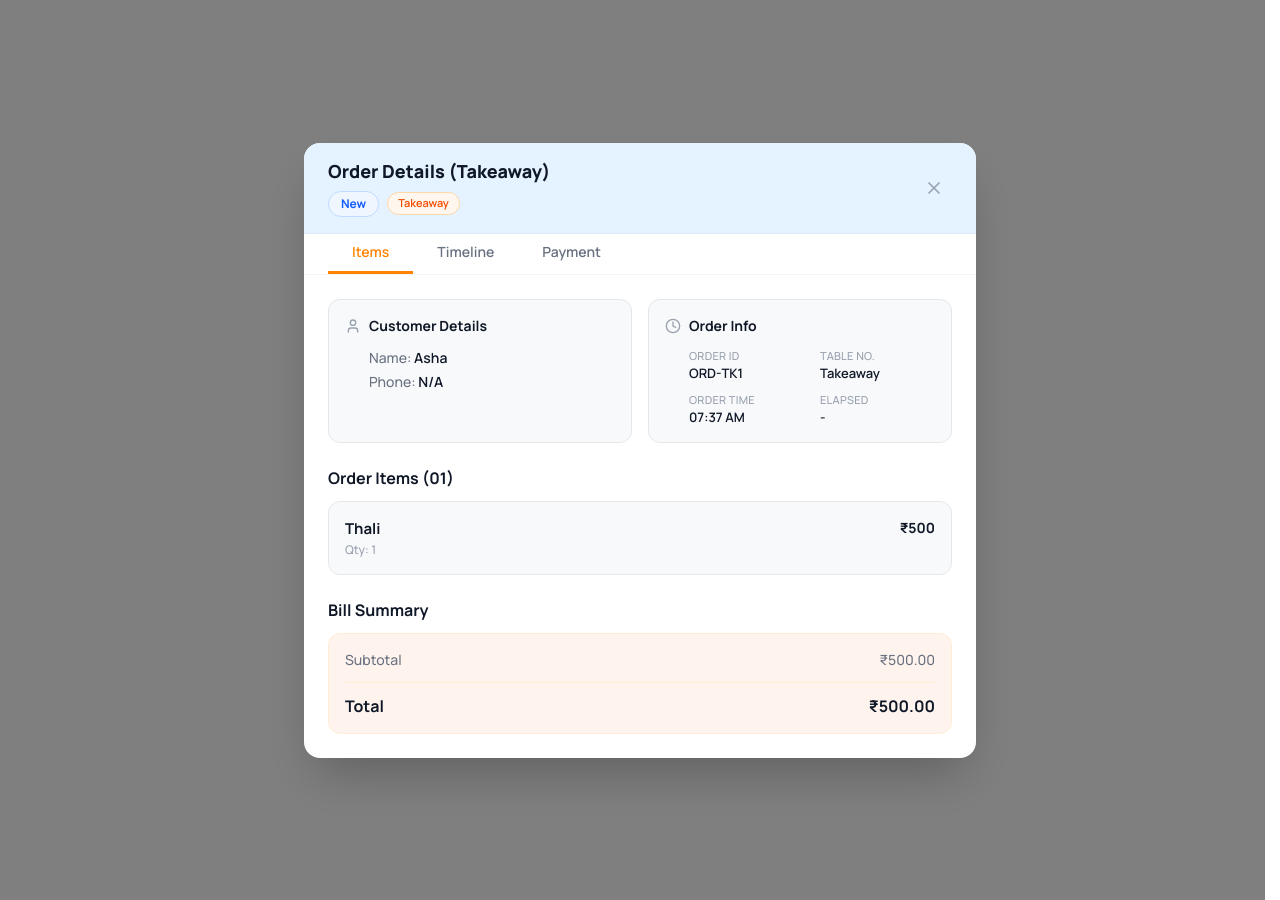
Test case: OrderDetailsModal — split payment › only cash may be over the amount due
Click the button "Payment" at (572, 258), box top-left (518, 242), bottom-right (625, 274)
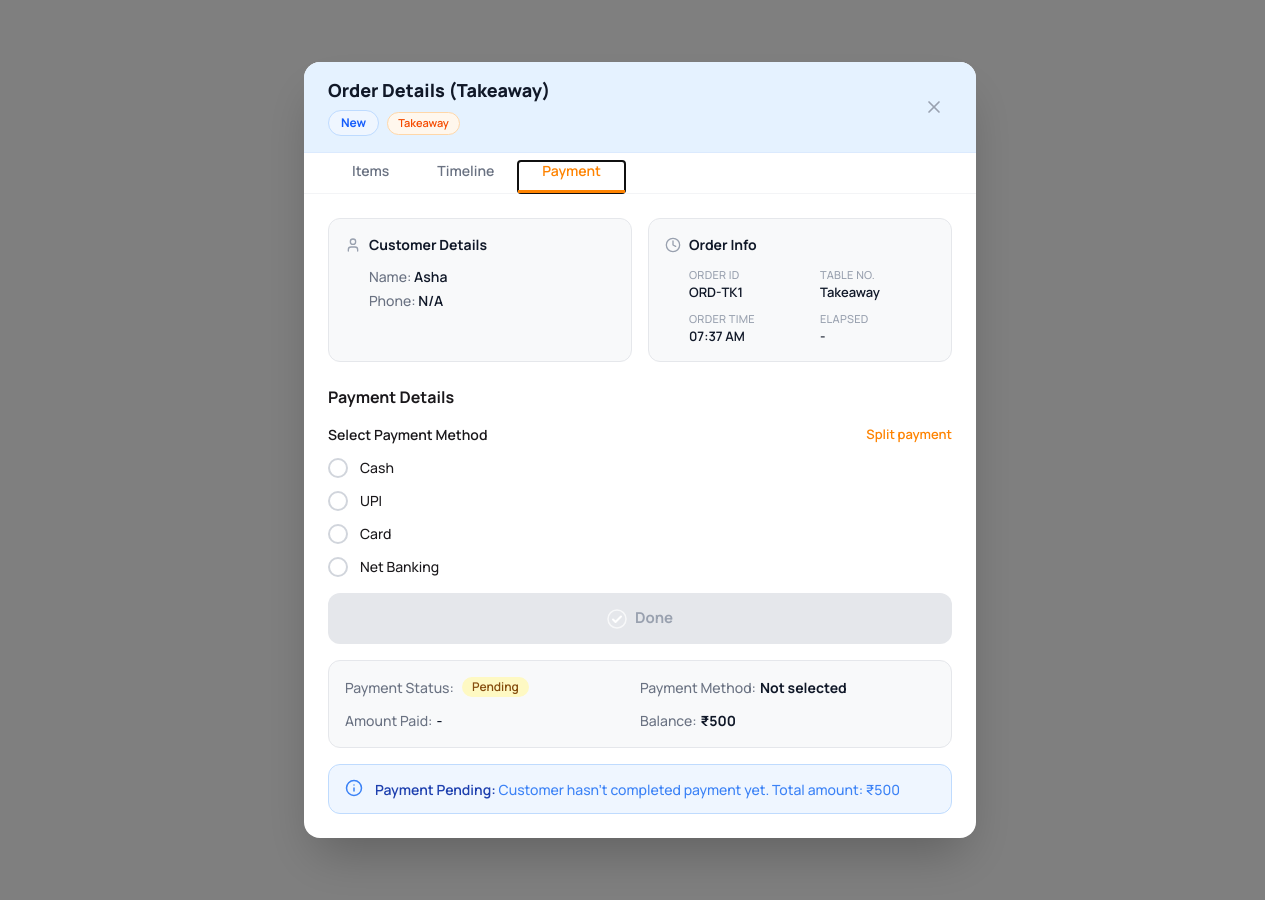
Click the button "Split payment" at (909, 435), box top-left (866, 425), bottom-right (952, 444)
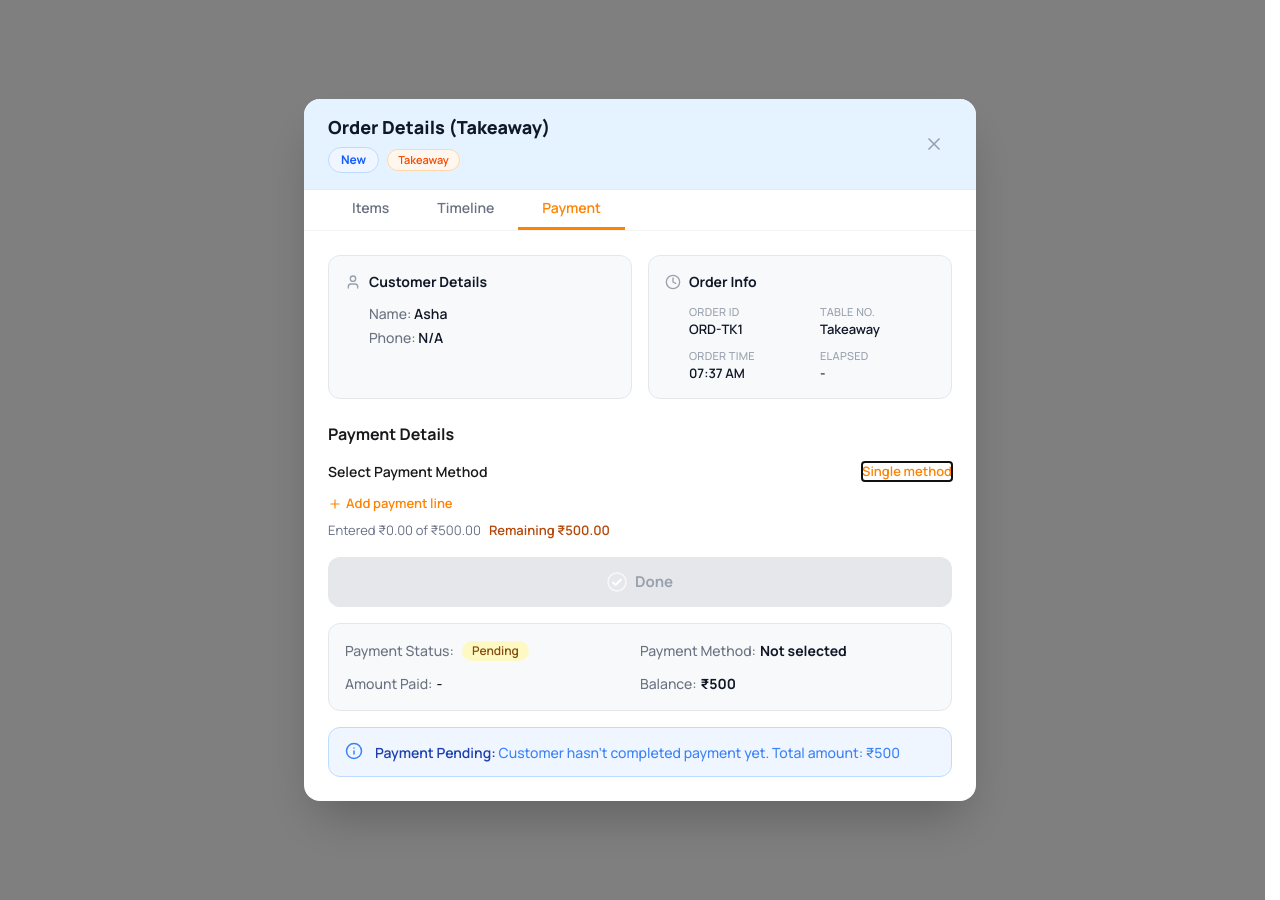
Click the button "Add payment line" at (390, 504), box top-left (328, 494), bottom-right (453, 513)
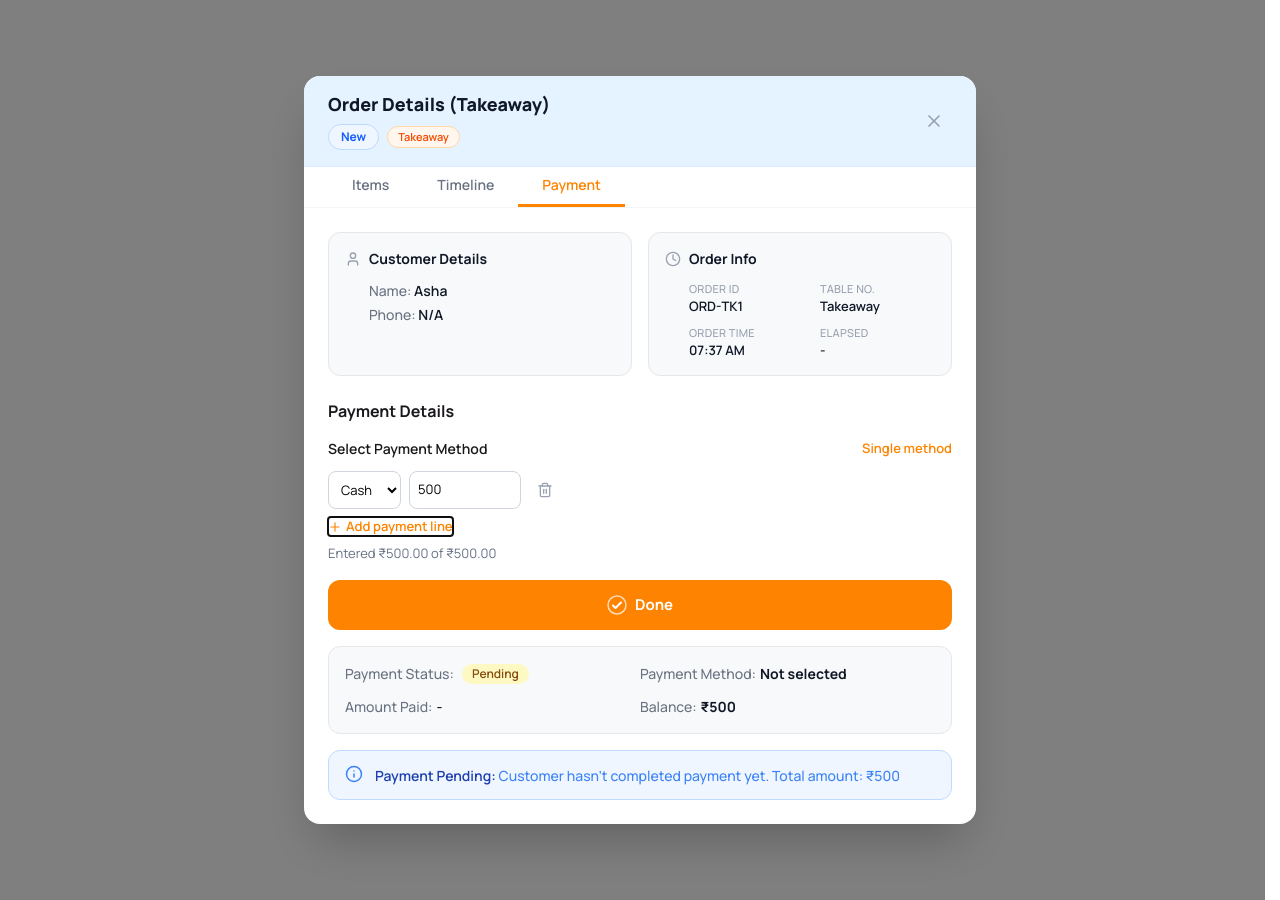
Replace the text in the number field named "Payment amount 1" with "600" at (465, 490), box top-left (409, 471), bottom-right (521, 508)
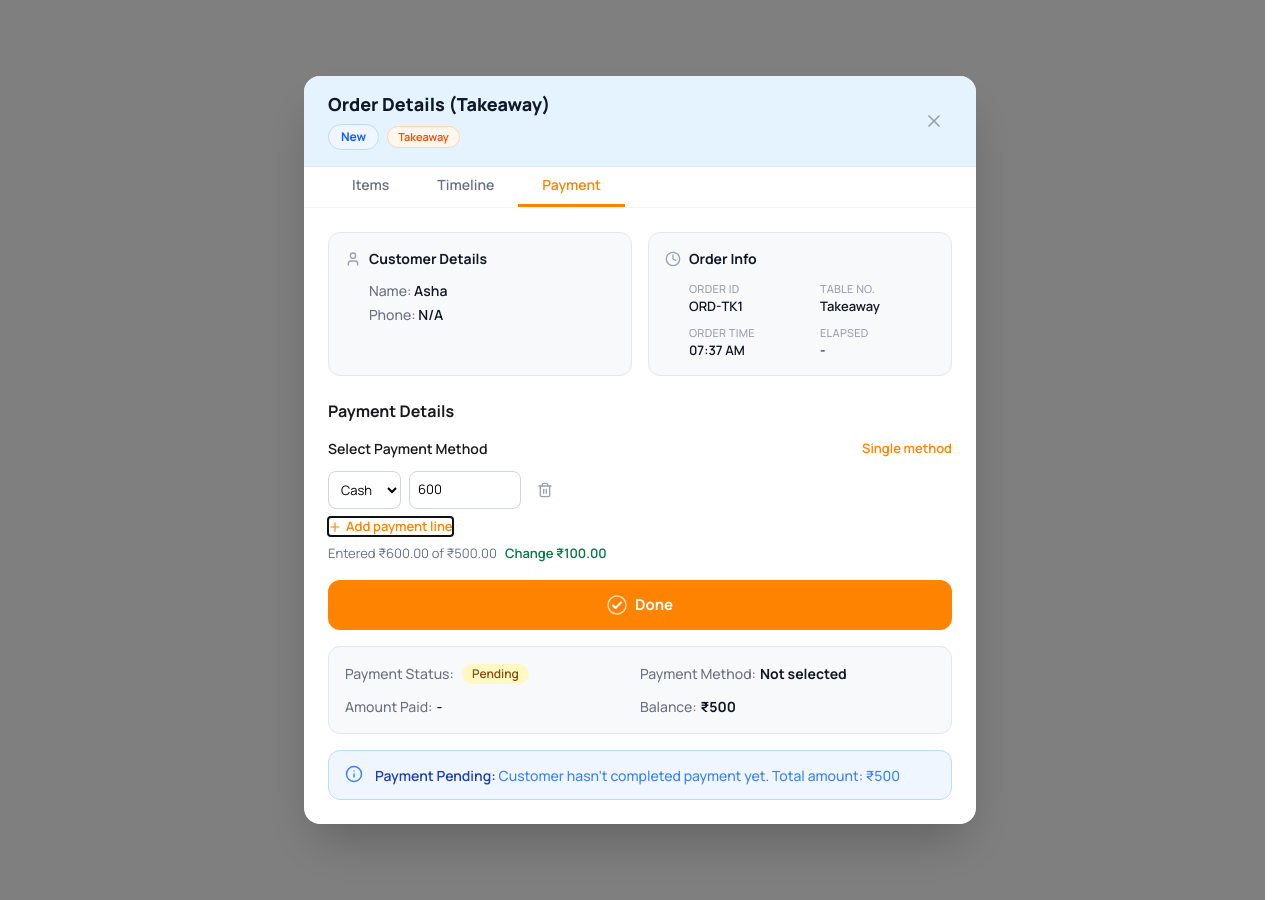
Check: the button "Done" is enabled, box top-left (328, 580), bottom-right (952, 630)
Select "Card" in the dropdown named "Payment method 1" at (364, 490), box top-left (328, 471), bottom-right (401, 509)
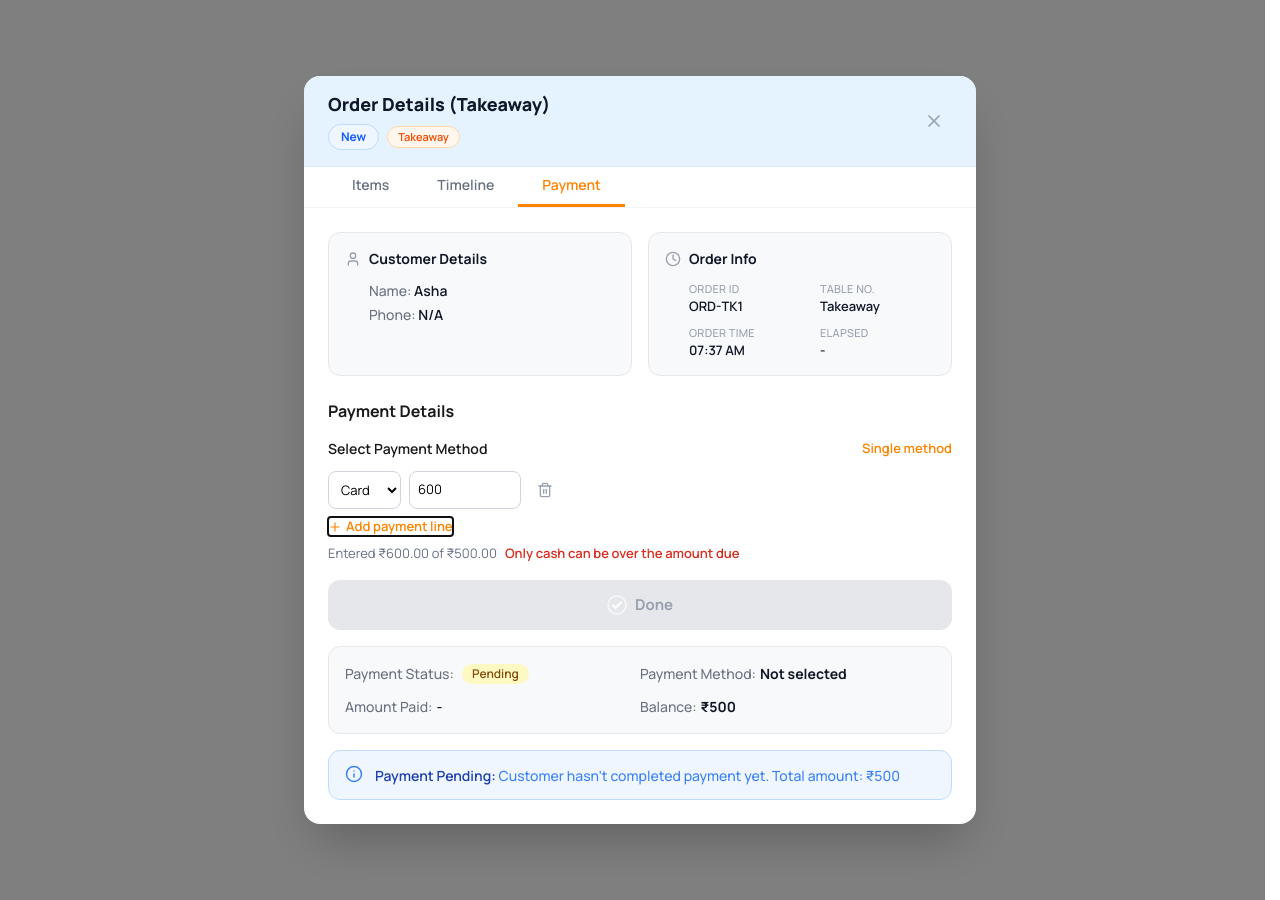
Check: the button "Done" is disabled, box top-left (328, 580), bottom-right (952, 630)
